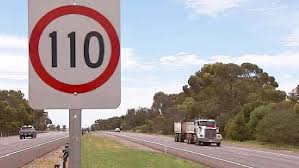sp110: (29, 6, 121, 96)
